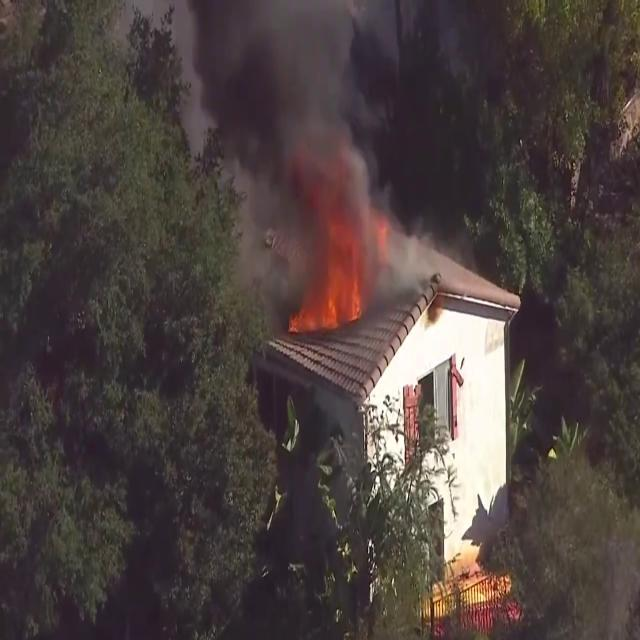Fire: (296, 248, 366, 334)
Smoke: (174, 1, 433, 310)
